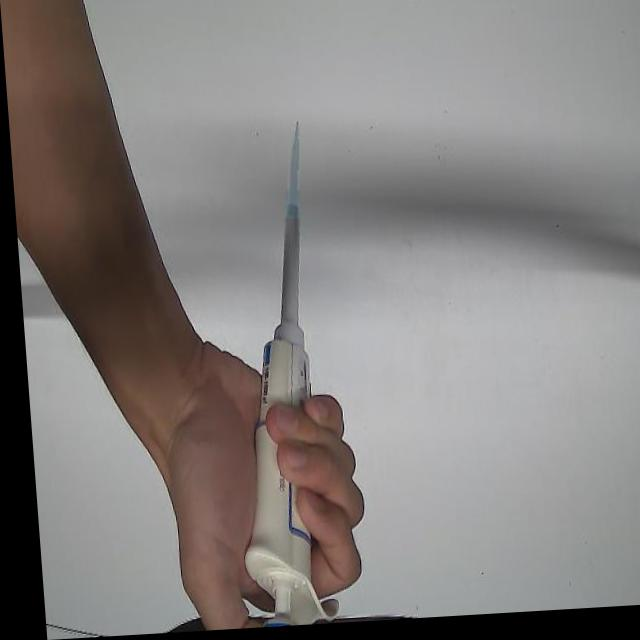Micropipette Tip 1000 uL: (273, 124, 303, 223)
Single Channel Pipettor: (211, 203, 342, 630)
